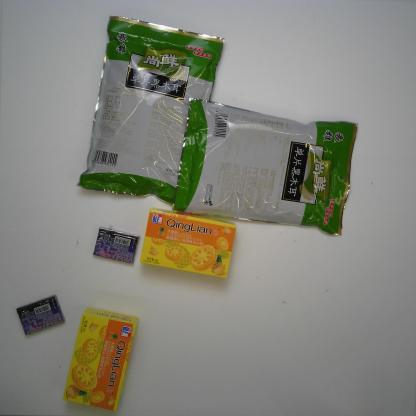Dessert: (60, 305, 140, 412), (138, 206, 237, 280)
Dried Food: (73, 12, 226, 208), (169, 95, 358, 239)
Gum: (15, 294, 66, 336), (92, 224, 141, 266)
